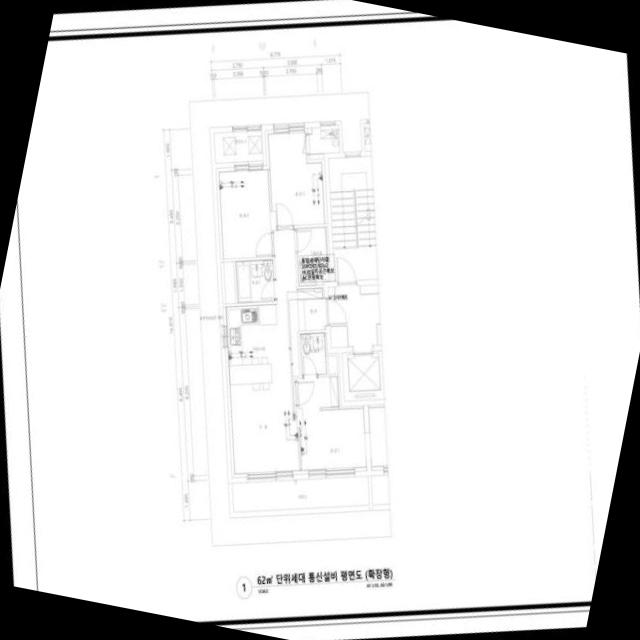background: (0, 0, 640, 640)
space_balconi: (214, 130, 263, 164)
space_bedroom: (297, 376, 366, 474), (265, 128, 327, 226), (216, 165, 272, 259)
space_elevator: (342, 350, 384, 401)
space_elevator_hall: (328, 285, 381, 347)
space_front: (297, 287, 327, 330)
space_kitchen: (223, 303, 281, 387)
space_living_room: (227, 229, 302, 477)
space_multipurpose_space: (296, 226, 330, 286)
space_other: (221, 261, 237, 303)
space_outdoor_room: (309, 125, 340, 153)
space_staircase: (328, 156, 378, 281)
space_toilet: (235, 259, 275, 303), (299, 332, 339, 375)
